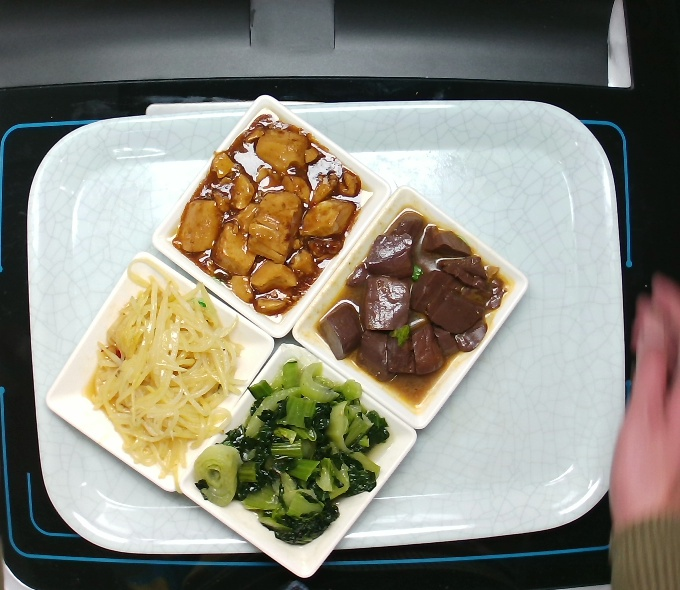wcq-MaPoDouFu: (167, 109, 358, 322)
wcq-NiuXue: (323, 208, 507, 388)
wcq-TuDouSi: (80, 268, 255, 481)
wcq-YouDongCai: (194, 357, 397, 549)
